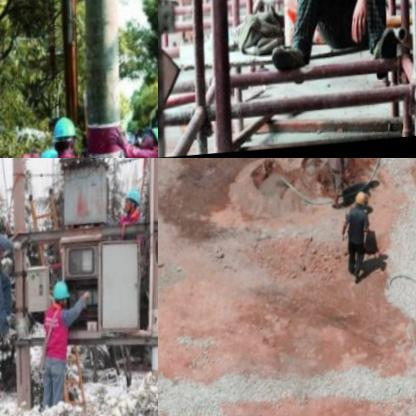helmet: (48, 116, 79, 158), (137, 128, 158, 158), (49, 280, 68, 313), (123, 191, 139, 218), (353, 194, 367, 215)
